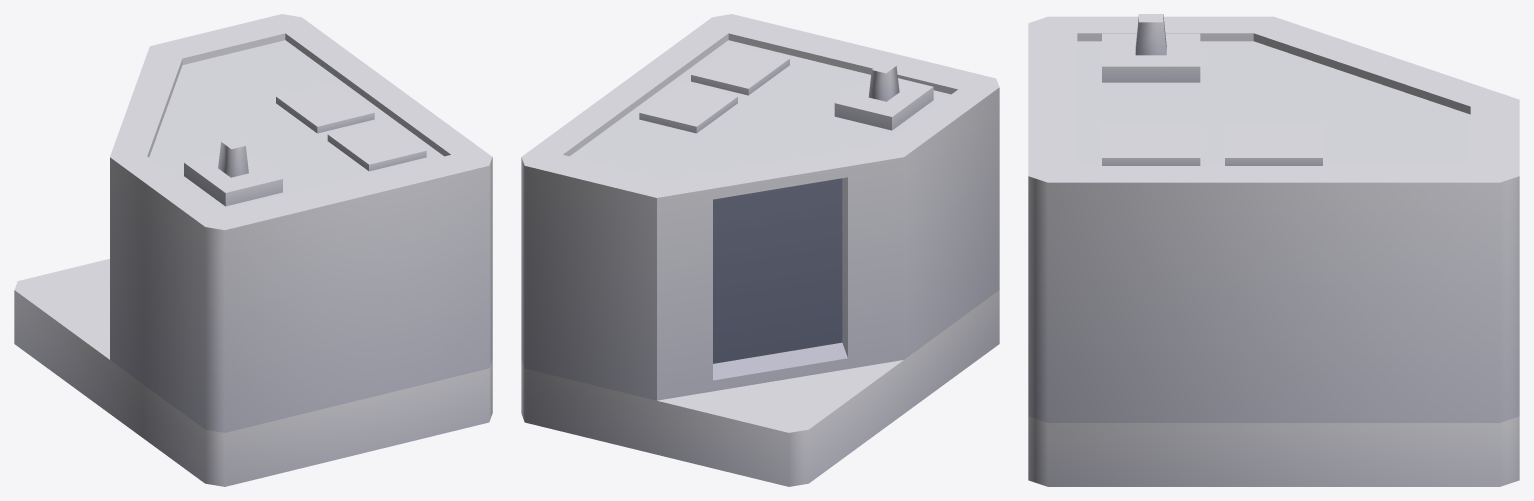
File: building-c_far.glb
3 renders of one model, left to right at view 1: azimuth 30°, elevation 25°; view 2: azimuth 150°, elevation 25°; view 3: azimuth 270°, elevation 25°, orthographic. The views are drawn at different scales.
Parts seen in each view (by area): view 1: low-detail-building-c; view 2: low-detail-building-c; view 3: low-detail-building-c.
Part boxes in pixels (bbox=[...]): low-detail-building-c: bbox=[14, 14, 492, 486]; low-detail-building-c: bbox=[521, 14, 999, 486]; low-detail-building-c: bbox=[1028, 14, 1519, 486].
Size of the model in its own units: 0.88 by 0.89 by 1.1.
1 material, 1 textured.
